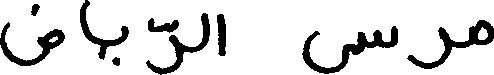ا: (78, 0, 91, 44), (214, 12, 225, 57)
ر: (408, 24, 451, 69), (145, 32, 182, 73)
س: (354, 23, 398, 55)
ض: (0, 1, 62, 66)
ل: (198, 10, 208, 51)
م: (469, 18, 492, 45)
ى: (301, 29, 355, 74)
ي: (95, 24, 127, 64)
